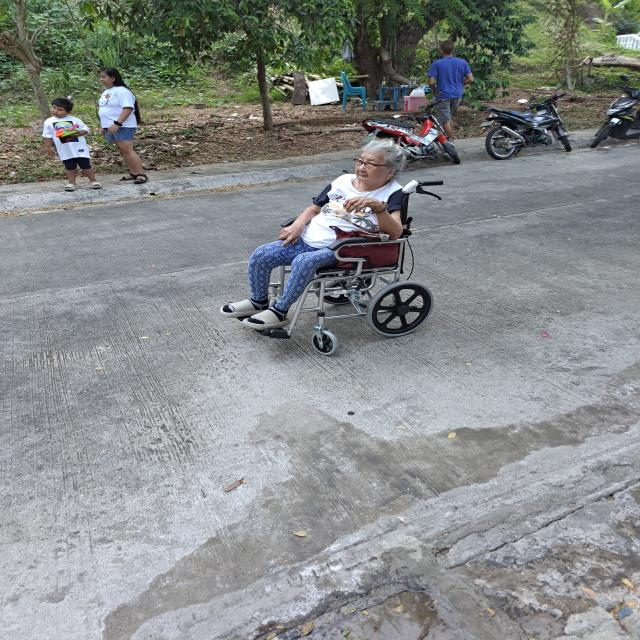wheelchairs: (232, 173, 454, 357)
